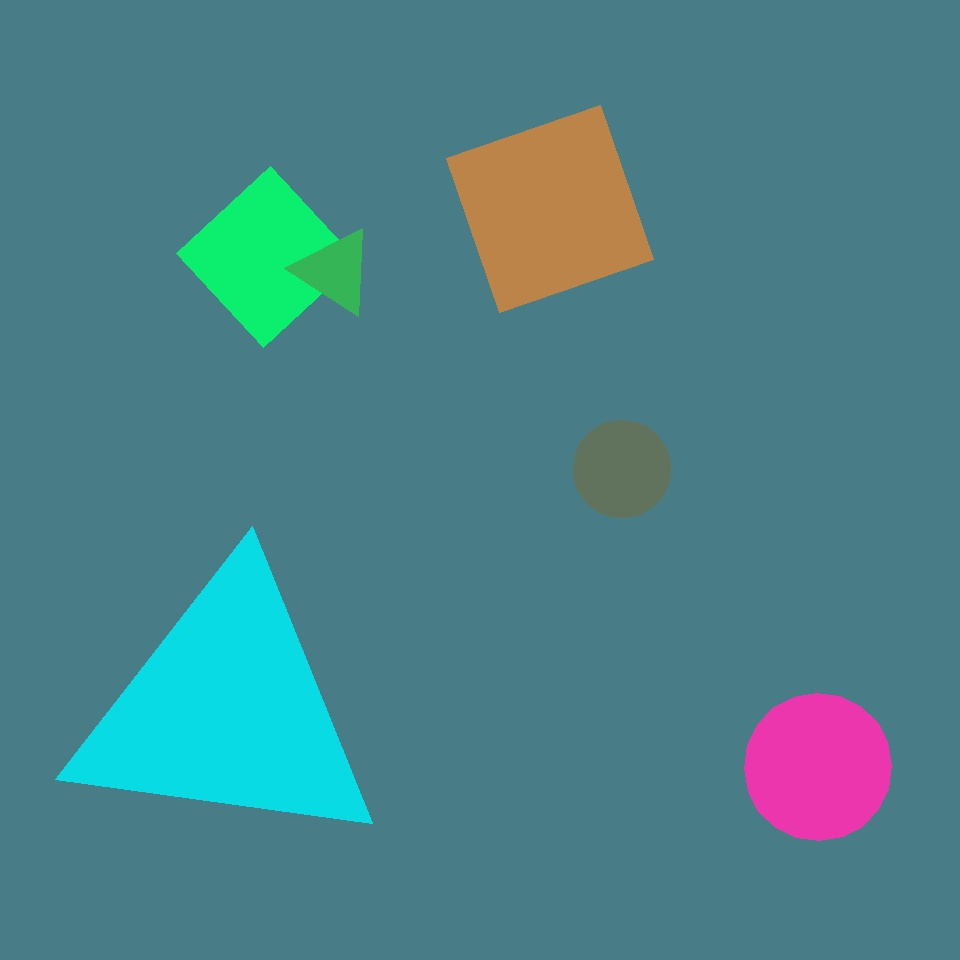circle: (68, 562, 386, 858), (296, 227, 374, 315)
square: (446, 106, 654, 313), (176, 166, 358, 347)
triangle: (744, 694, 892, 840), (574, 420, 670, 518)
